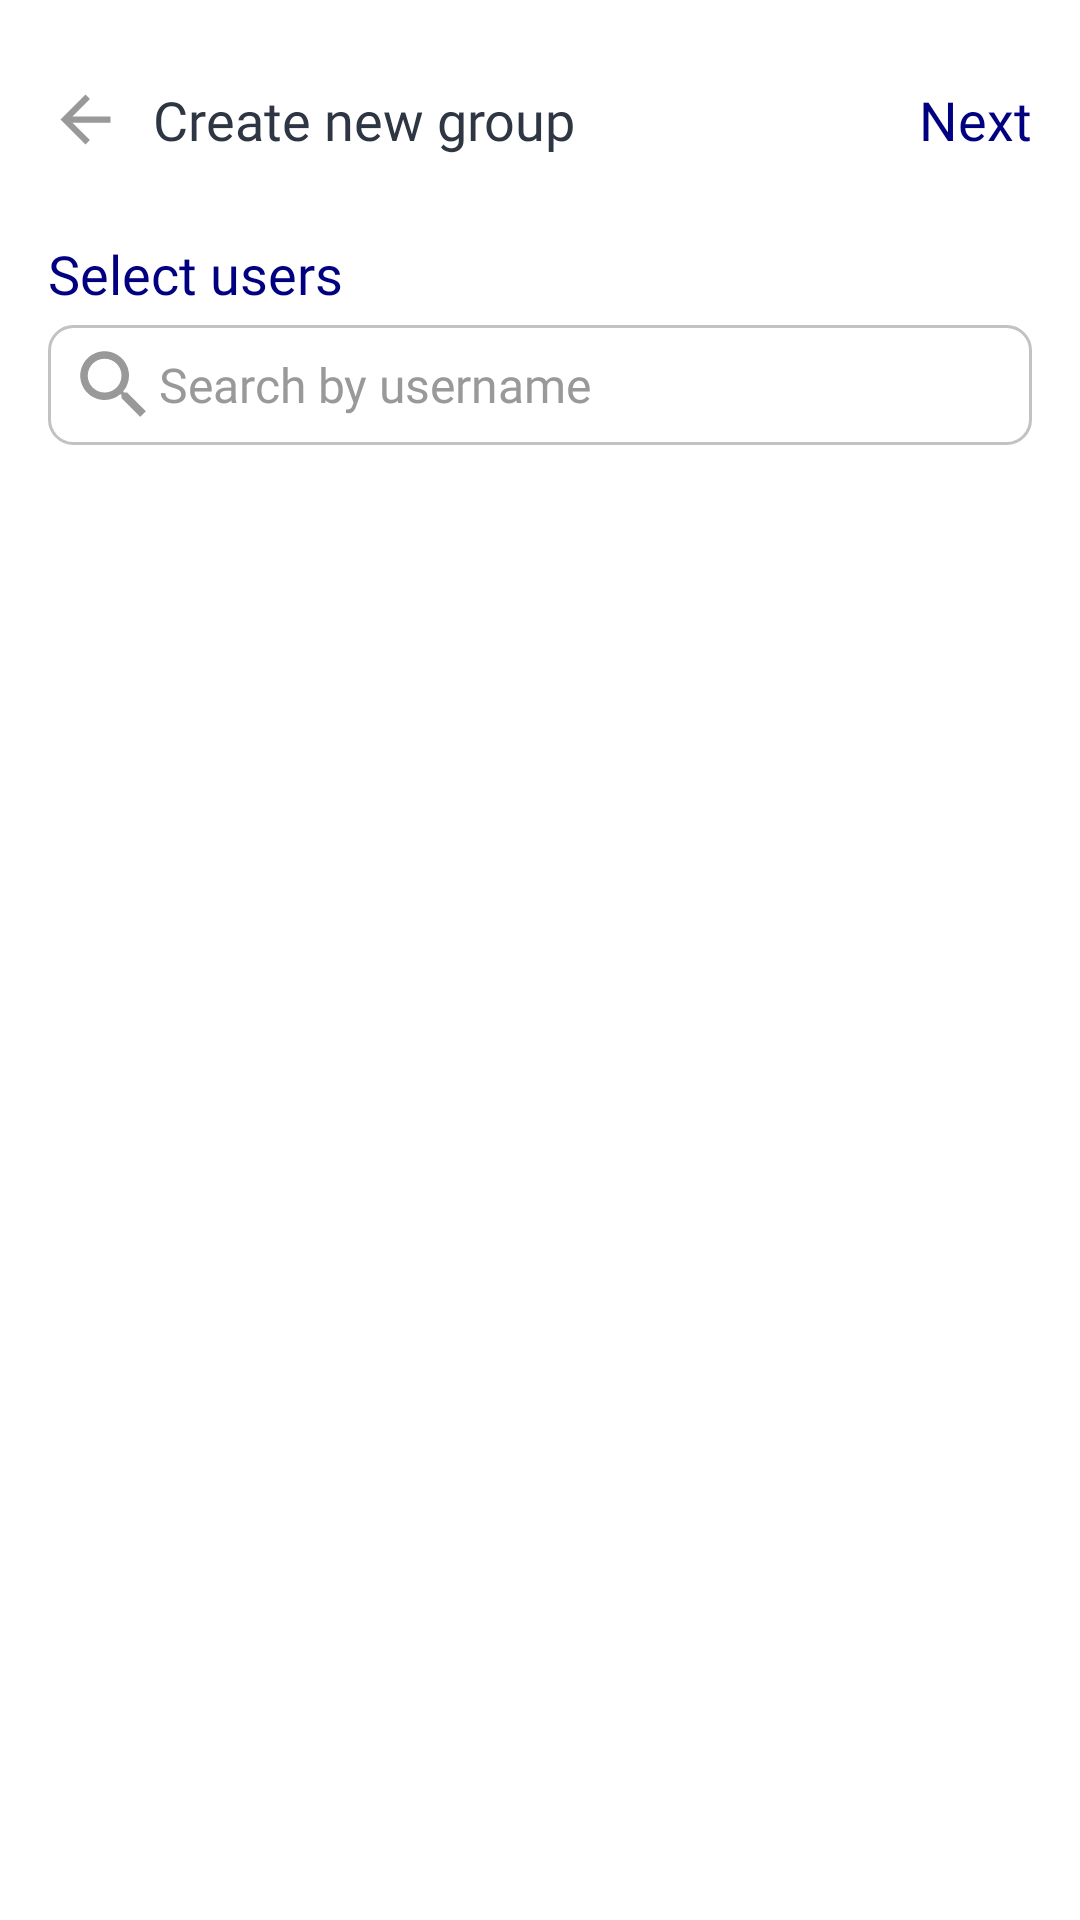

Where to tap for icons on this 1080*1920 app screen, as point (x, y):
arrow back: point (85, 119)
